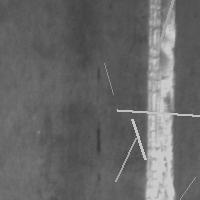scratches: (143, 1, 178, 199), (152, 0, 188, 56), (137, 172, 200, 200), (111, 133, 141, 186), (112, 105, 200, 121), (127, 114, 150, 164), (99, 58, 118, 99), (92, 120, 105, 158)
